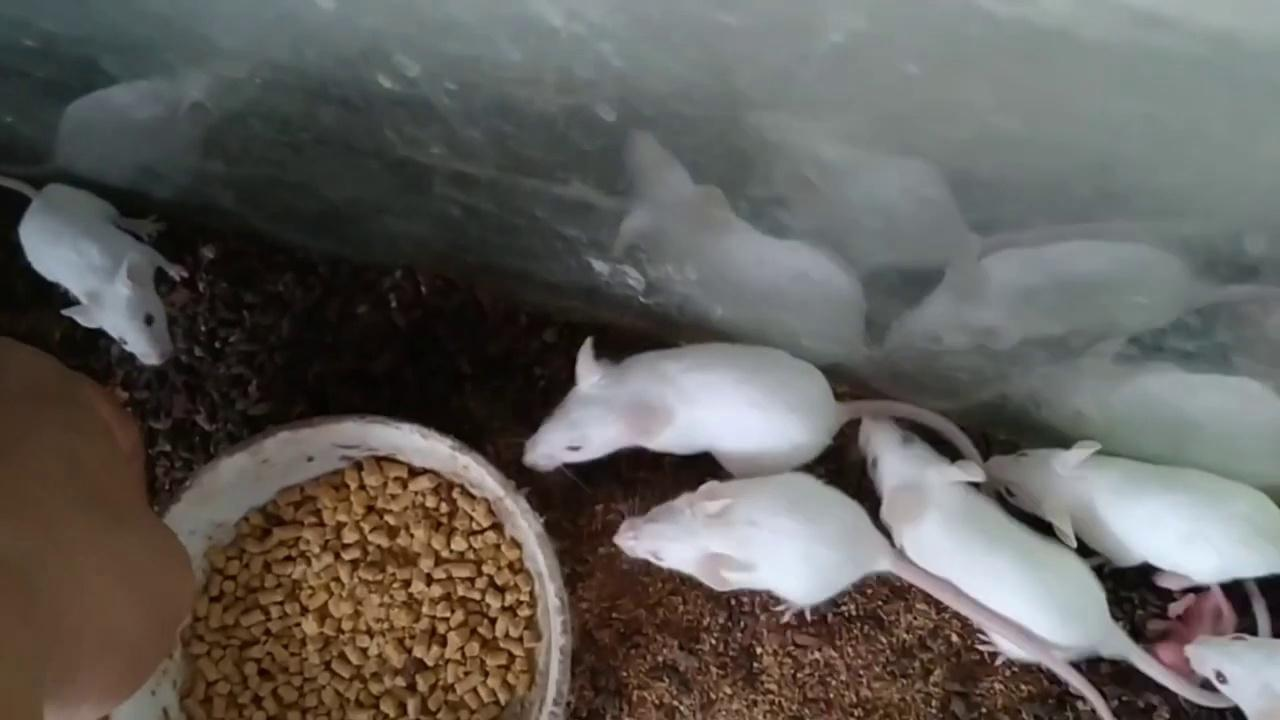rat: (617, 472, 1117, 720), (862, 412, 1236, 706), (527, 336, 982, 478), (984, 442, 1280, 588), (0, 178, 194, 366), (1187, 635, 1280, 720)
